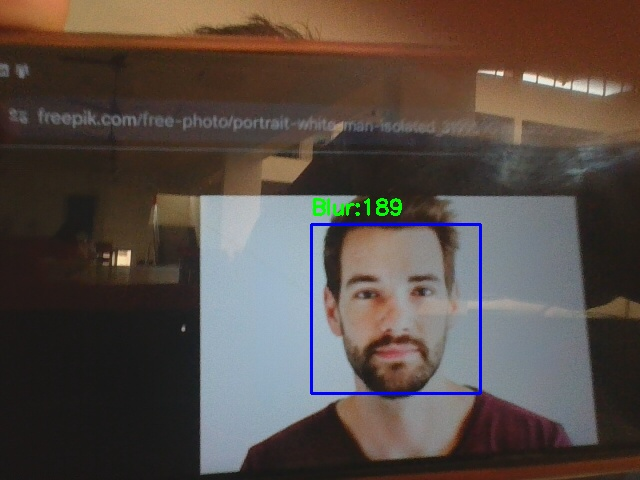fake: (311, 224, 480, 393)
